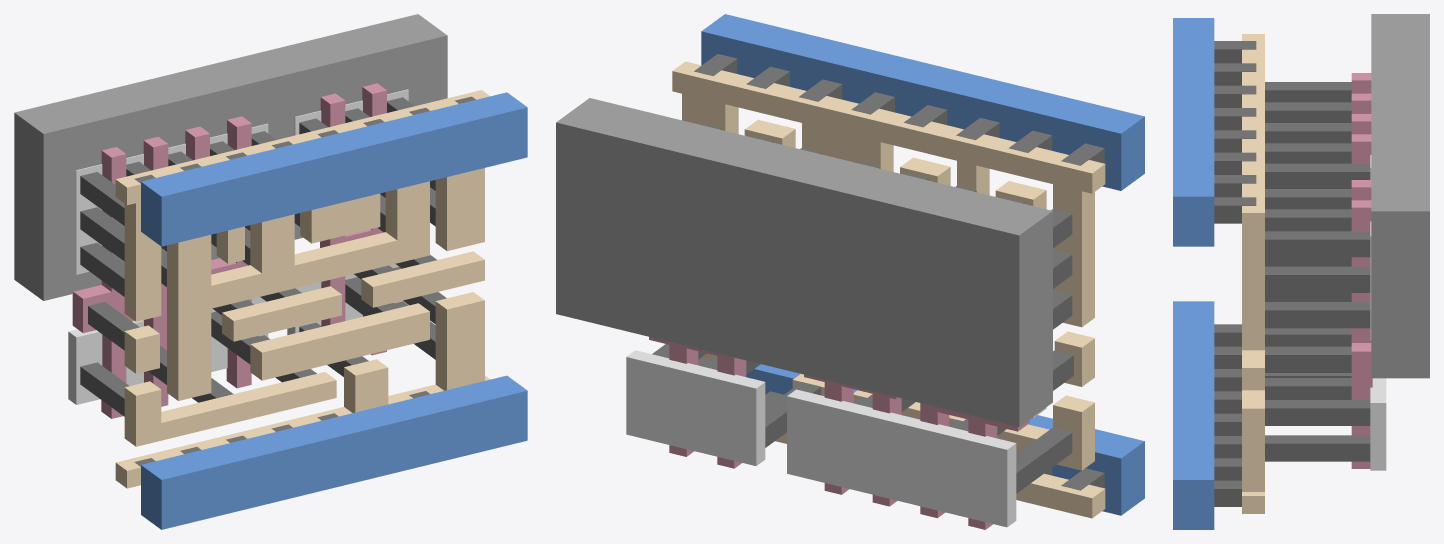
The model's file is sky130_fd_sc_hd__nand3_2.gds.gltf.
3 renders of one model, left to right at view 1: azimuth 30°, elevation 25°; view 2: azimuth 150°, elevation 25°; view 3: azimuth 270°, elevation 25°, orthographic. The views are drawn at different scales.
Visible parts, largest first — view 1: sky130_fd_sc_hd__nand3_2_li1, sky130_fd_sc_hd__nand3_2_met1, sky130_fd_sc_hd__nand3_2_nwell, sky130_fd_sc_hd__nand3_2_licon, sky130_fd_sc_hd__nand3_2_poly, sky130_fd_sc_hd__nand3_2_diff, sky130_fd_sc_hd__nand3_2_mcon; view 2: sky130_fd_sc_hd__nand3_2_nwell, sky130_fd_sc_hd__nand3_2_li1, sky130_fd_sc_hd__nand3_2_diff, sky130_fd_sc_hd__nand3_2_met1, sky130_fd_sc_hd__nand3_2_licon, sky130_fd_sc_hd__nand3_2_mcon, sky130_fd_sc_hd__nand3_2_poly; view 3: sky130_fd_sc_hd__nand3_2_licon, sky130_fd_sc_hd__nand3_2_nwell, sky130_fd_sc_hd__nand3_2_met1, sky130_fd_sc_hd__nand3_2_mcon, sky130_fd_sc_hd__nand3_2_li1, sky130_fd_sc_hd__nand3_2_poly, sky130_fd_sc_hd__nand3_2_diff.
Boxes of the visible parts, <box> form: sky130_fd_sc_hd__nand3_2_li1: <box>115,90,489,488</box>; sky130_fd_sc_hd__nand3_2_met1: <box>141,92,527,529</box>; sky130_fd_sc_hd__nand3_2_nwell: <box>14,14,447,300</box>; sky130_fd_sc_hd__nand3_2_licon: <box>80,97,446,416</box>; sky130_fd_sc_hd__nand3_2_poly: <box>72,83,386,418</box>; sky130_fd_sc_hd__nand3_2_diff: <box>68,89,408,404</box>; sky130_fd_sc_hd__nand3_2_mcon: <box>134,96,475,466</box>; sky130_fd_sc_hd__nand3_2_nwell: <box>556,98,1052,426</box>; sky130_fd_sc_hd__nand3_2_li1: <box>672,61,1105,518</box>; sky130_fd_sc_hd__nand3_2_diff: <box>626,350,1016,527</box>; sky130_fd_sc_hd__nand3_2_met1: <box>701,14,1144,515</box>; sky130_fd_sc_hd__nand3_2_licon: <box>652,123,1073,493</box>; sky130_fd_sc_hd__nand3_2_mcon: <box>694,54,1104,490</box>; sky130_fd_sc_hd__nand3_2_poly: <box>649,337,1029,529</box>; sky130_fd_sc_hd__nand3_2_licon: <box>1265,82,1370,461</box>; sky130_fd_sc_hd__nand3_2_nwell: <box>1371,14,1429,378</box>; sky130_fd_sc_hd__nand3_2_met1: <box>1173,18,1214,529</box>; sky130_fd_sc_hd__nand3_2_mcon: <box>1214,41,1256,506</box>; sky130_fd_sc_hd__nand3_2_li1: <box>1242,34,1264,513</box>; sky130_fd_sc_hd__nand3_2_poly: <box>1351,73,1372,468</box>; sky130_fd_sc_hd__nand3_2_diff: <box>1370,155,1386,470</box>.
Size of the model in its own units: 4.06 by 3.2 by 2.24.
